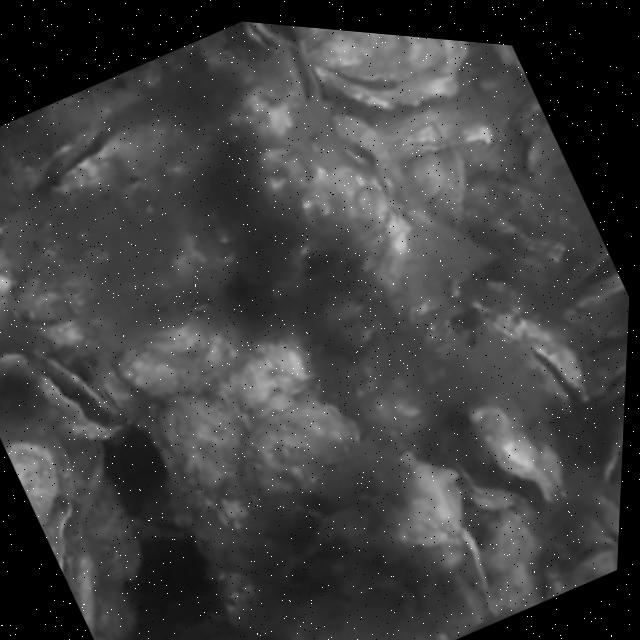Oyster-Closed: (488, 298, 590, 408), (580, 339, 627, 418)
Oyster-Indeterminate: (141, 404, 252, 615), (239, 408, 359, 508), (115, 314, 236, 403), (466, 410, 563, 505), (481, 507, 547, 620), (230, 337, 312, 423), (394, 148, 471, 227), (304, 169, 385, 237), (513, 100, 567, 180), (488, 43, 521, 68)
Oyster-Open: (44, 96, 176, 210), (311, 29, 465, 107), (0, 437, 80, 563), (31, 346, 124, 441), (543, 242, 629, 342), (333, 110, 396, 168)
